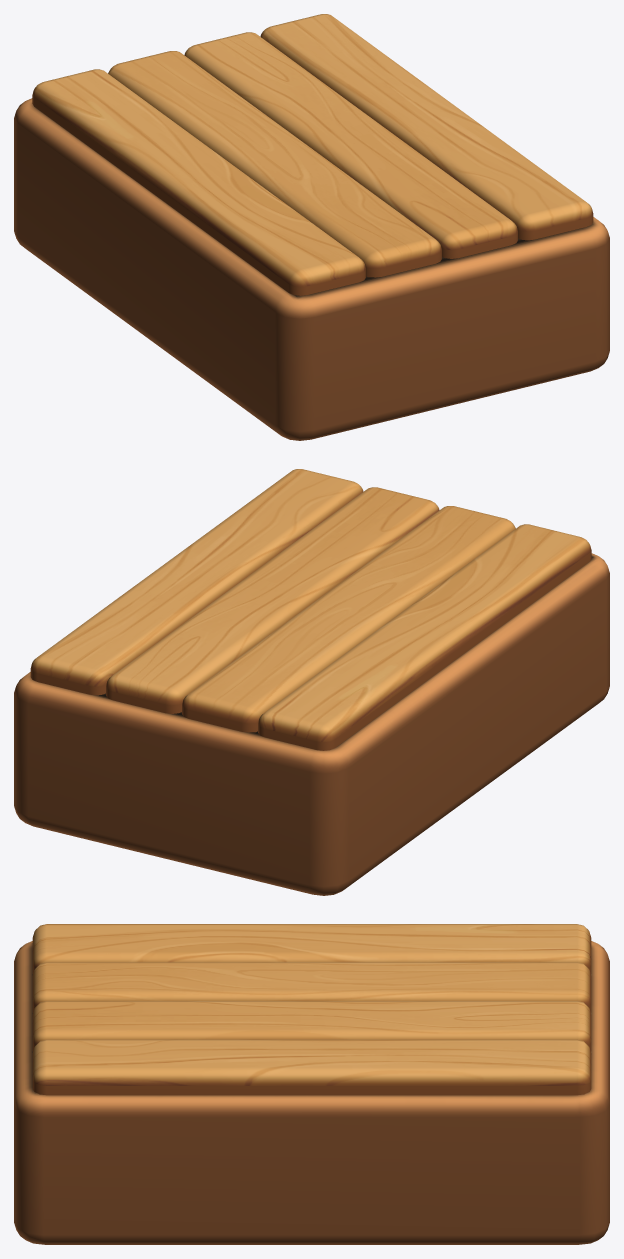
File: WoodenBox_2x3.fbx
3 renders of one model, top to bottom at view 1: azimuth 30°, elevation 25°; view 2: azimuth 150°, elevation 25°; view 3: azimuth 270°, elevation 25°, orthographic. The views are drawn at different scales.
Visible parts, largest first — view 1: box2x3; view 2: box2x3; view 3: box2x3.
Boxes of the visible parts, <box> form: box2x3: <box>14,14,609,440</box>; box2x3: <box>14,469,609,895</box>; box2x3: <box>14,924,609,1244</box>.
Bounding box in the file's own units: 2.03 × 0.9589 × 3.04.
